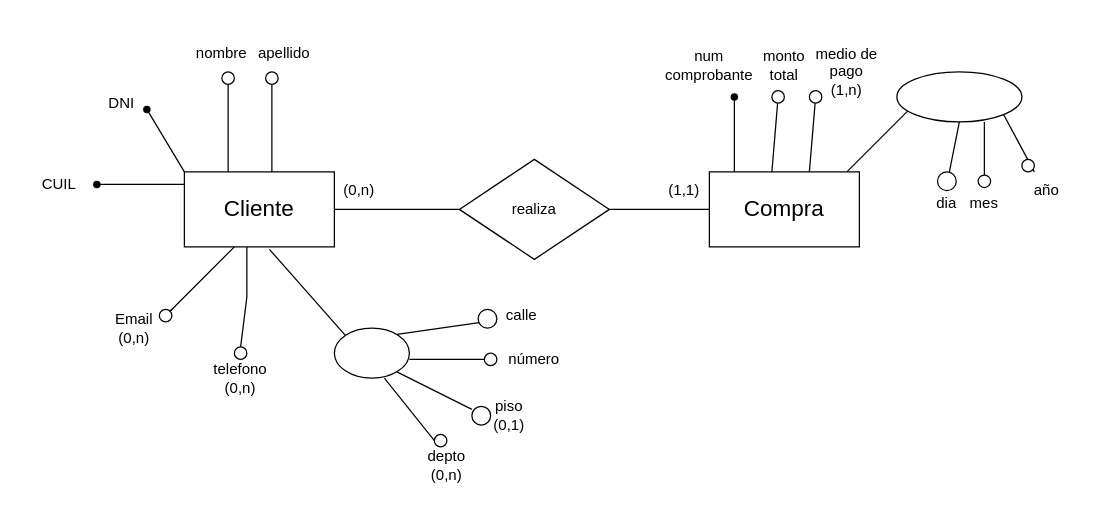
Some shapes in this 1105 by 506 pixel diagram are drawn without their labels. Each missing label, with the centre of its shape:
"dirección" belongs at point (371, 352).
"fecha" belongs at point (959, 96).
